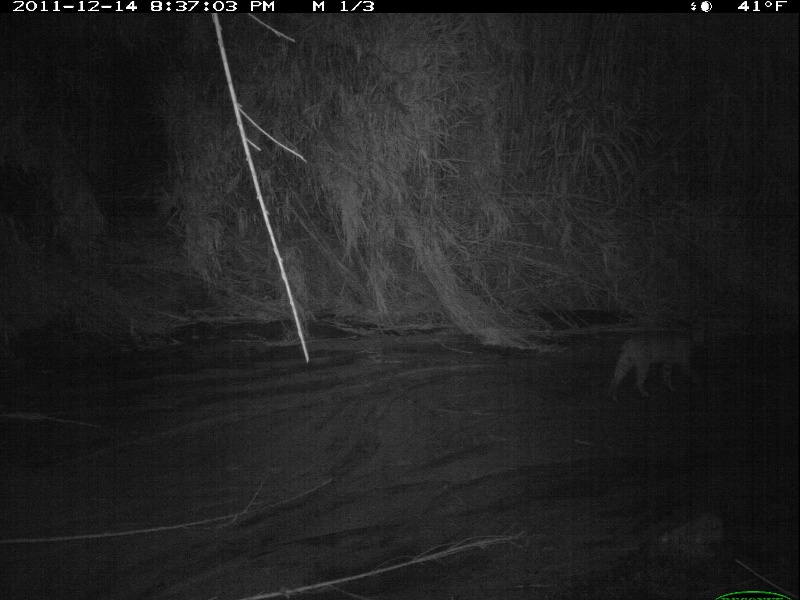cat: (603, 319, 712, 402)
